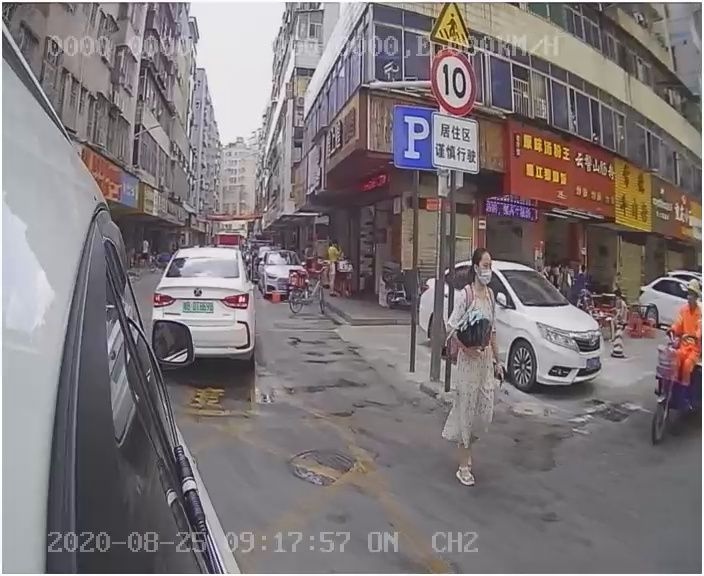person: (438, 250, 508, 481)
